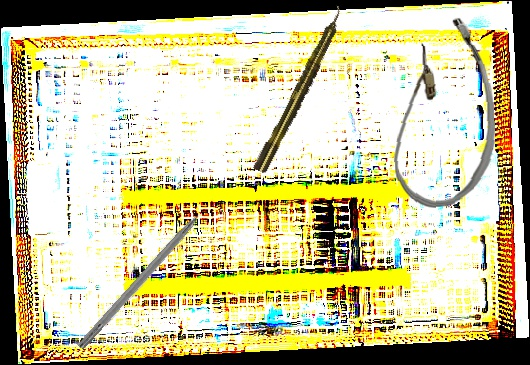Cannula: (387, 15, 499, 210)
Handpiece: (251, 4, 350, 175)
Hook Surgical: (76, 196, 219, 352)
